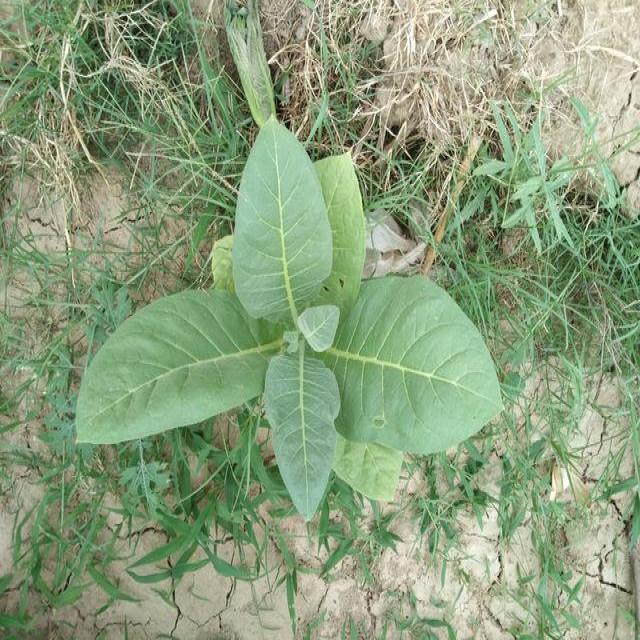crop: (78, 119, 514, 524)
